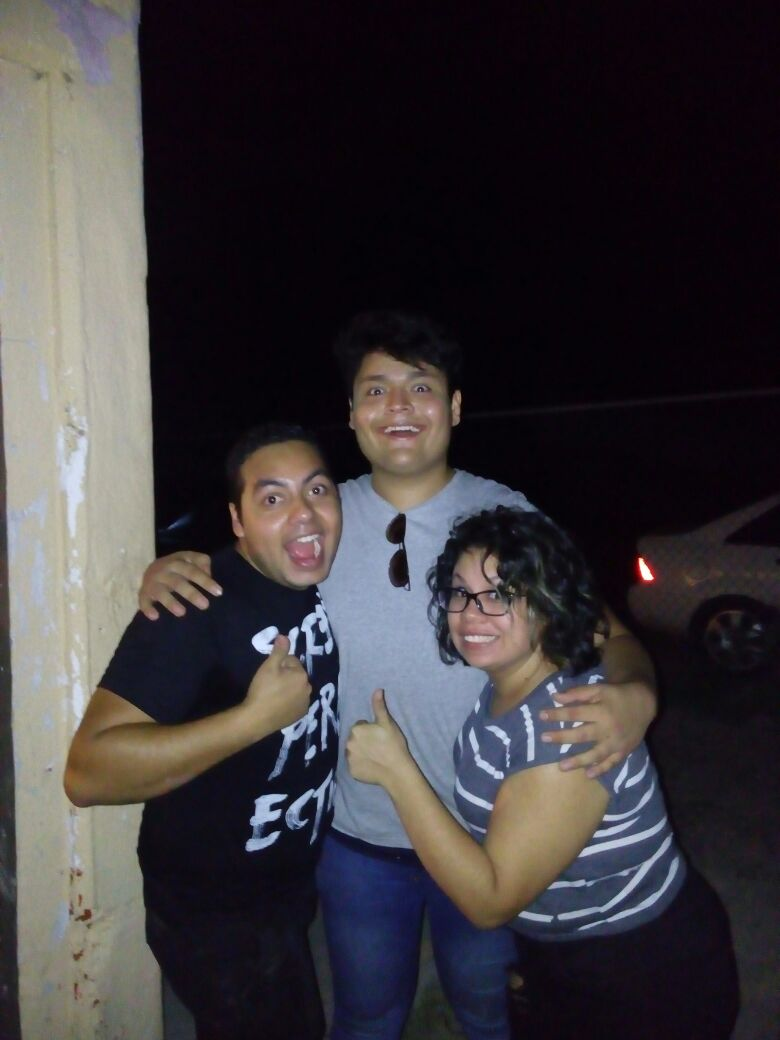Yoshi: (128, 404, 351, 692)
